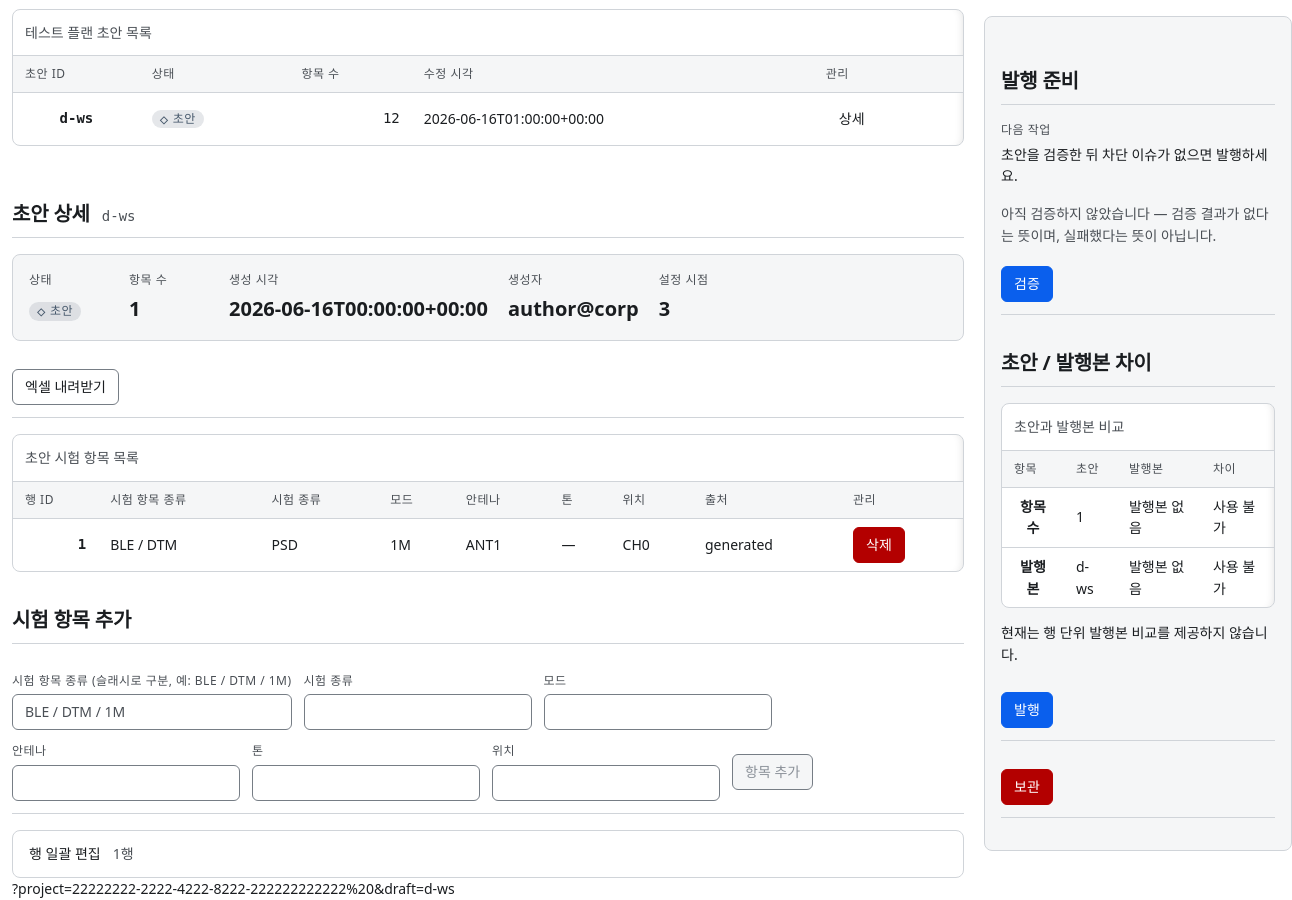
TestPlansRoute › normalizes a whitespace-padded project param so publish invalidation refetches (P1-1)
(page scrolled)
What coordinates should you click on to do the following:
click the button with test id "test-plans-publish"
I would click on:
 (1027, 710)
Its box is [1001,692,1053,728].
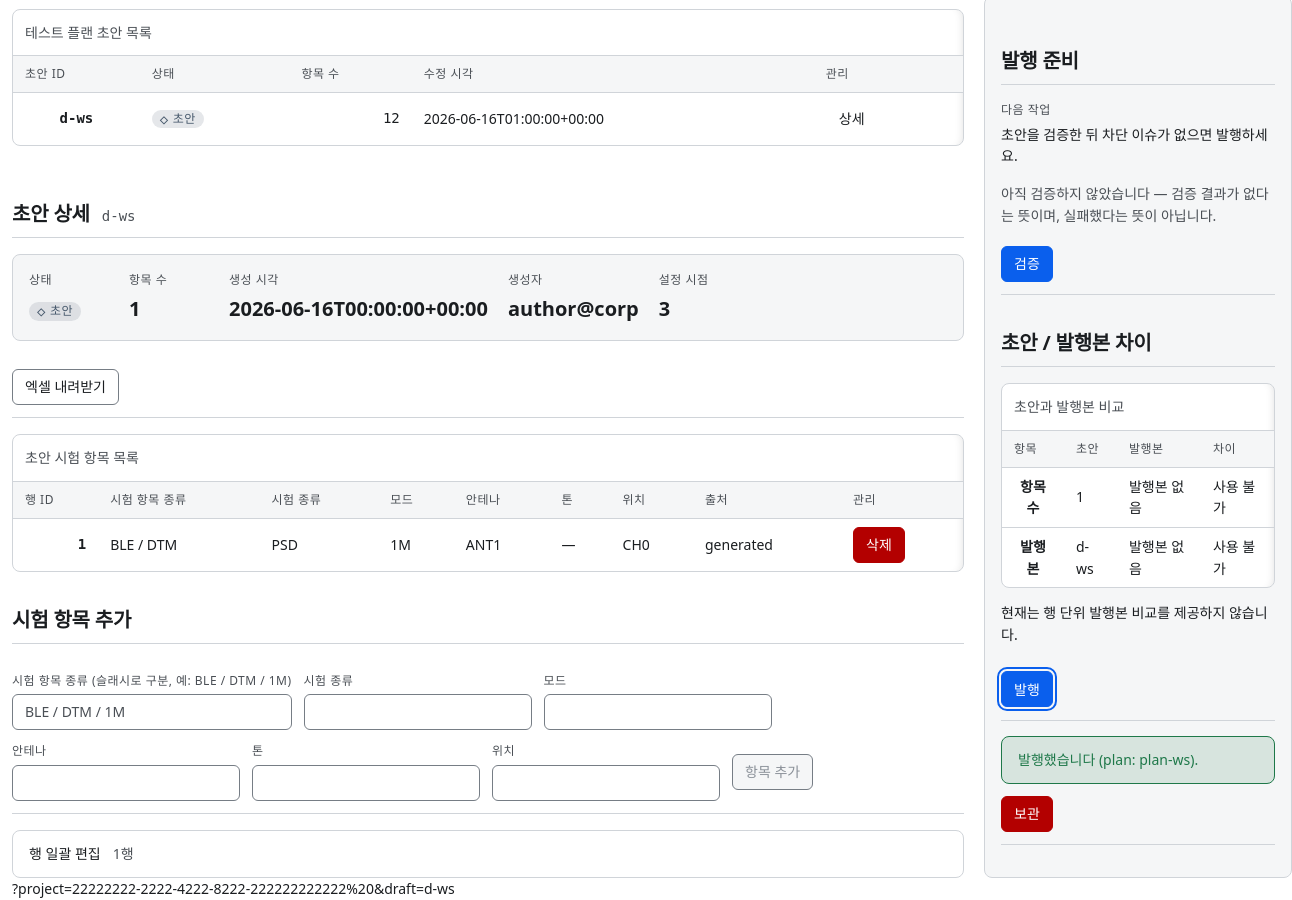
Now the message "발행했습니다 (plan: plan-ws)." is shown, box [1001,736,1275,784]
